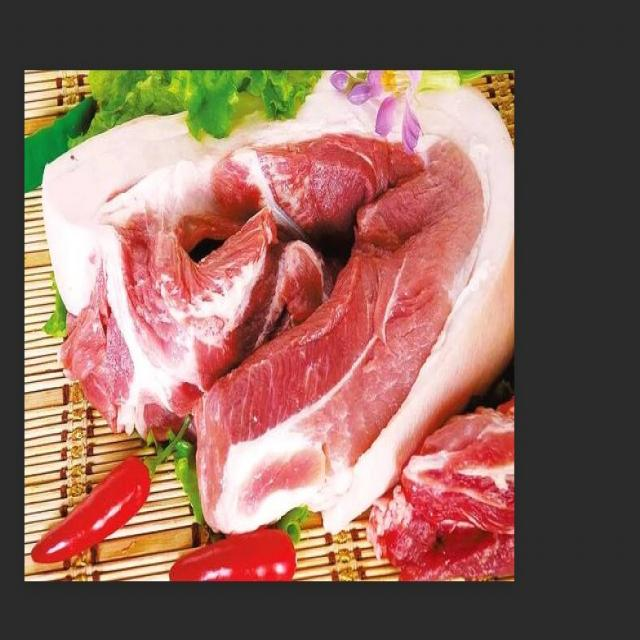pork: (42, 84, 513, 537)
